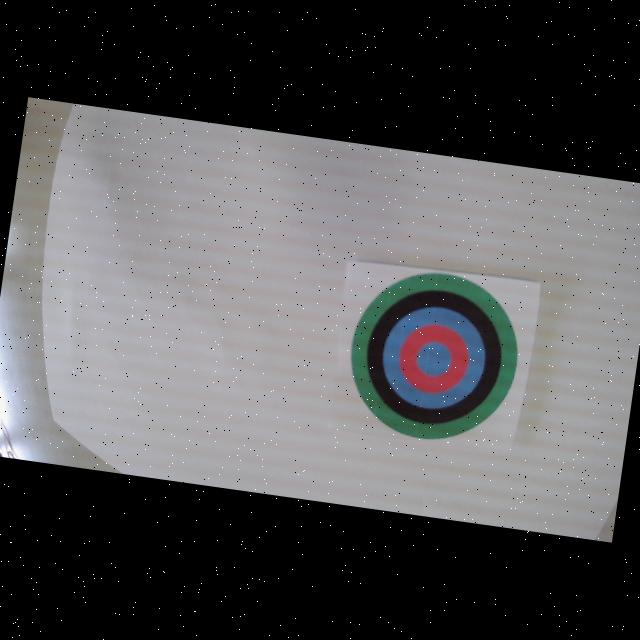COGNITIVE: (340, 261, 530, 452)
